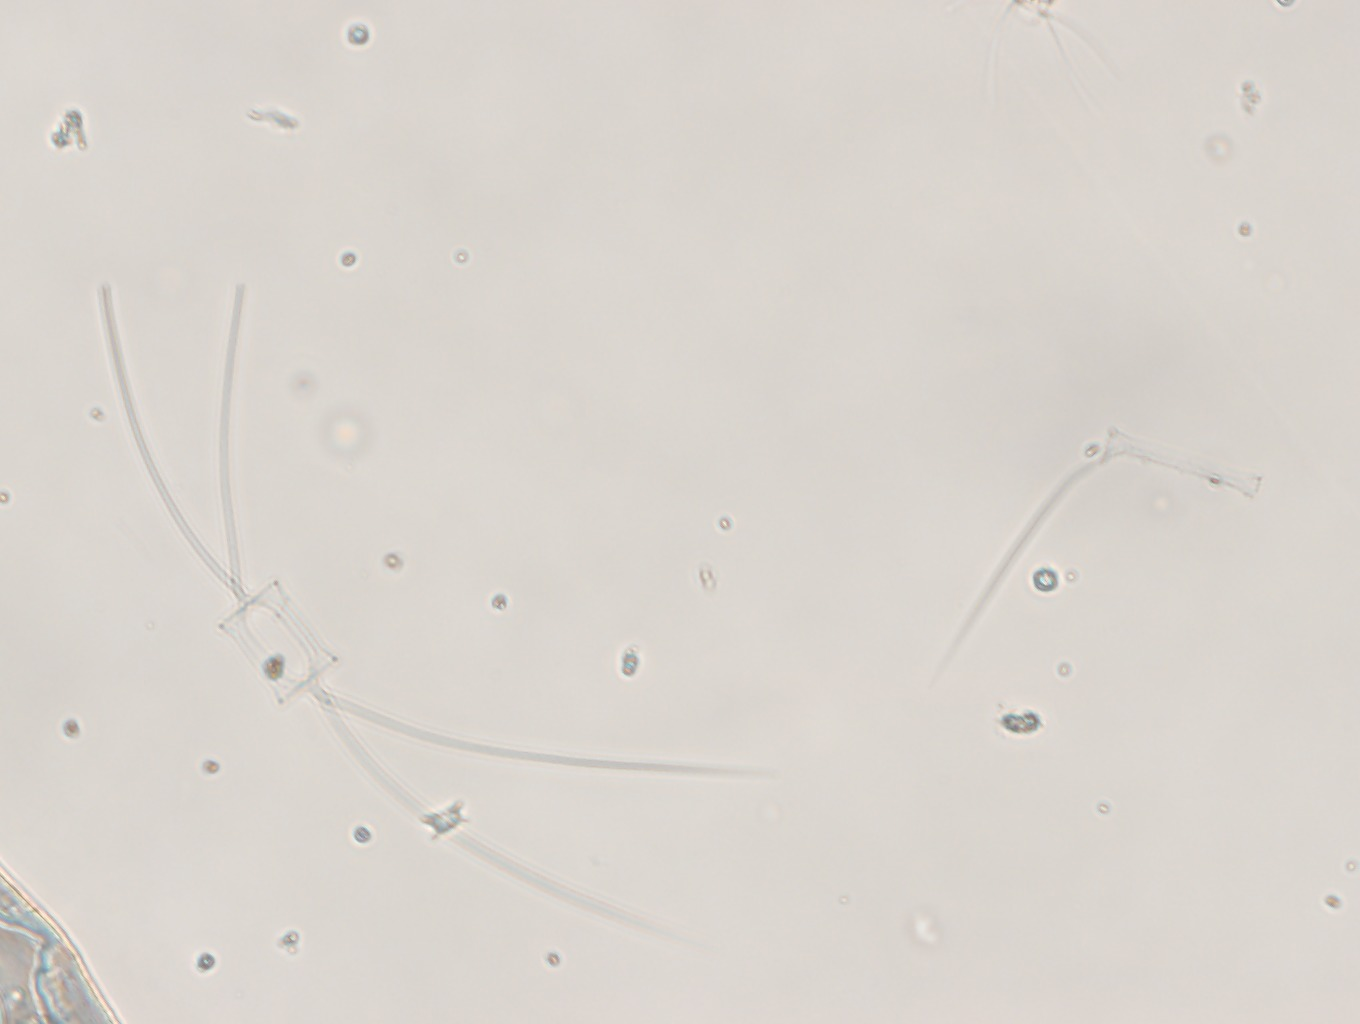chaetoceros: (91, 271, 784, 962)
